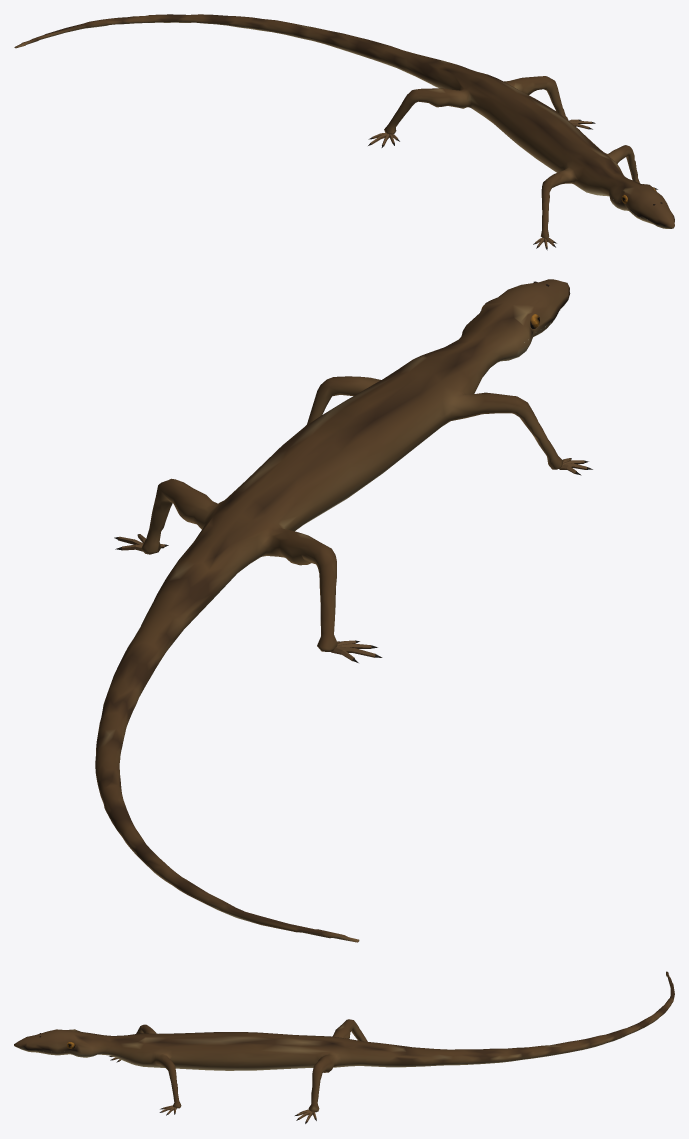
The model's file is Hylonomus.fbx.
3 views of the same model, one above another, from view 1: azimuth 30°, elevation 25°; view 2: azimuth 150°, elevation 25°; view 3: azimuth 270°, elevation 25° (orthographic). The views are drawn at different scales.
Visible parts, largest first — view 1: Hylonomus; view 2: Hylonomus; view 3: Hylonomus.
Boxes of the visible parts, <box> form: Hylonomus: <box>14,14,674,250</box>; Hylonomus: <box>95,279,592,942</box>; Hylonomus: <box>14,971,674,1123</box>.
Bounding box in the file's own units: 0.6267 × 0.1063 × 1.18.
